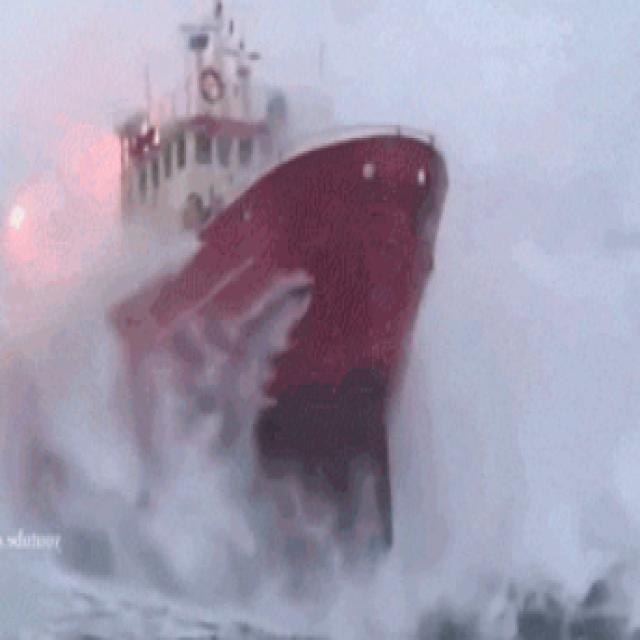cargoship: (22, 20, 434, 571)
